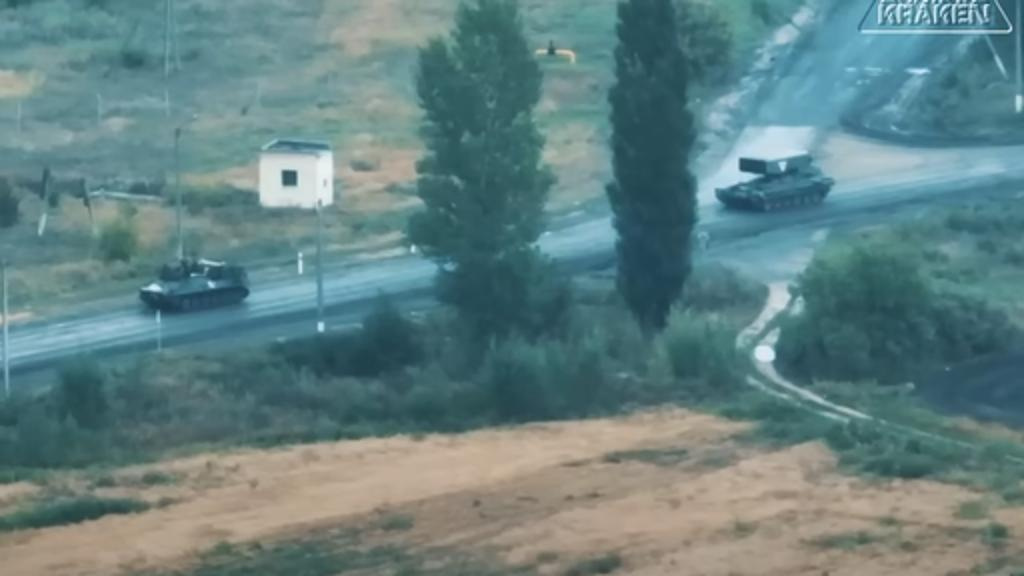APC-IFV: (132, 250, 256, 316)
MLRS: (710, 144, 834, 218)
